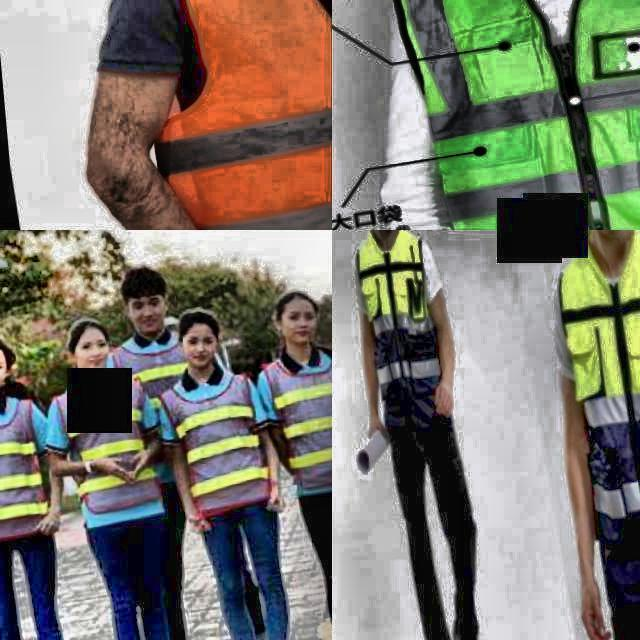safety_jacket: (371, 0, 640, 230), (136, 0, 332, 230), (543, 247, 640, 555), (341, 238, 442, 437), (51, 381, 161, 522), (165, 384, 276, 504), (264, 364, 332, 481), (0, 399, 50, 550)
